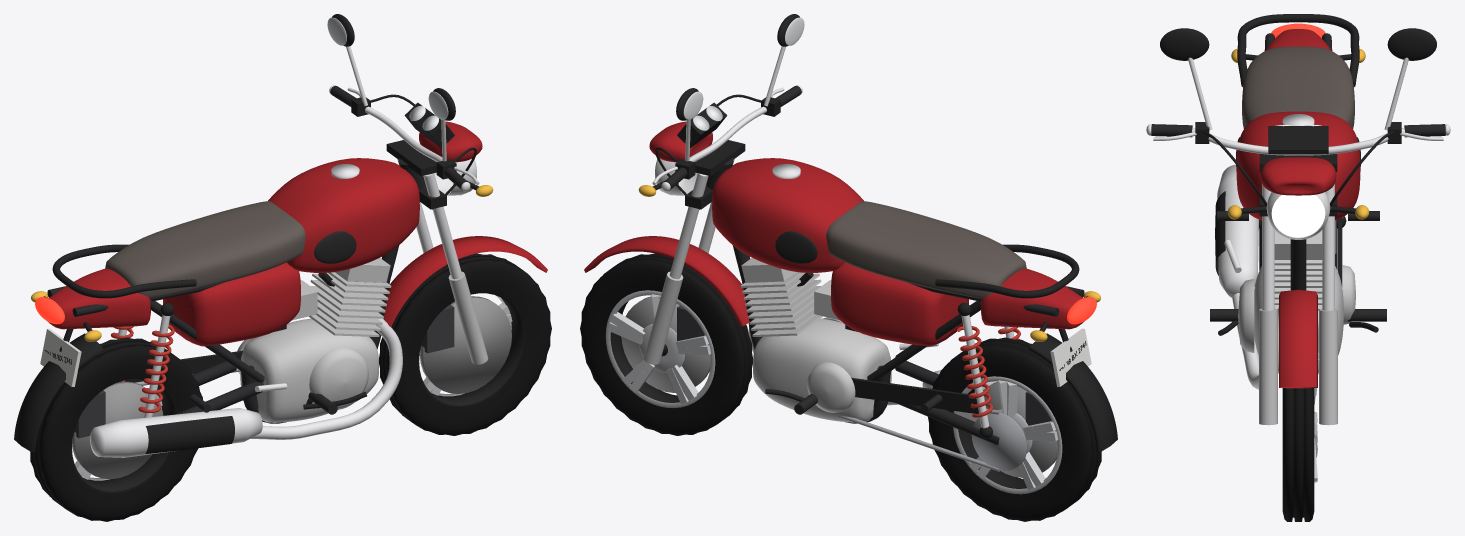
Rendered from bike_ride.glb.
3 renders of one model, left to right at view 1: azimuth 30°, elevation 25°; view 2: azimuth 150°, elevation 25°; view 3: azimuth 270°, elevation 25°, orthographic. The views are drawn at different scales.
Visible parts, largest first — view 1: Tyre, Tyre.001, Seat, Tank, SidePanel, Crankcase, BrakeDisc, Tail, Muffler, FrontGuard, BrakeDisc.001, Header (+24 smaller); view 2: Tyre, Tyre.001, Seat, Tank, Crankcase, SidePanel, Tail, FrontGuard, RearGuard, BrakeDisc, ChainGuard, Sprocket (+25 smaller); view 3: Seat, Tank, Tyre, FrontGuard, Muffler, Visor, ForkSlider, ForkSlider.001, GrabRail, Headlamp, Cluster, Mirror (+21 smaller).
Part boxes in pixels (left/top/right/bottom): Tyre: left=379, top=253, right=551, bottom=435; Tyre.001: left=30, top=337, right=202, bottom=521; Seat: left=105, top=201, right=305, bottom=298; Tank: left=268, top=158, right=419, bottom=272; SidePanel: left=163, top=262, right=300, bottom=346; Crankcase: left=240, top=318, right=378, bottom=422; BrakeDisc: left=419, top=296, right=511, bottom=393; Tail: left=47, top=268, right=150, bottom=329; Muffler: left=90, top=408, right=262, bottom=457; FrontGuard: left=383, top=236, right=547, bottom=326; BrakeDisc.001: left=72, top=381, right=163, bottom=479; Header: left=250, top=318, right=402, bottom=439; Tyre: left=580, top=253, right=752, bottom=435; Tyre.001: left=928, top=337, right=1101, bottom=521; Seat: left=826, top=201, right=1026, bottom=298; Tank: left=712, top=158, right=863, bottom=272; Crankcase: left=753, top=318, right=891, bottom=422; SidePanel: left=831, top=262, right=968, bottom=346; Tail: left=981, top=268, right=1084, bottom=329; FrontGuard: left=584, top=236, right=749, bottom=326; RearGuard: left=1028, top=333, right=1117, bottom=451; BrakeDisc: left=621, top=296, right=710, bottom=392; ChainGuard: left=851, top=377, right=978, bottom=413; Sprocket: left=971, top=412, right=1027, bottom=470; Seat: left=1242, top=46, right=1354, bottom=128; Tank: left=1236, top=111, right=1360, bottom=220; Tyre: left=1282, top=388, right=1314, bottom=521; FrontGuard: left=1279, top=289, right=1317, bottom=388; Muffler: left=1217, top=164, right=1258, bottom=297; Visor: left=1260, top=157, right=1336, bottom=195; ForkSlider: left=1319, top=308, right=1337, bottom=425; ForkSlider.001: left=1259, top=308, right=1277, bottom=425; GrabRail: left=1237, top=14, right=1359, bottom=87; Headlamp: left=1271, top=195, right=1325, bottom=237; Cluster: left=1268, top=126, right=1328, bottom=153; Mirror: left=1387, top=28, right=1436, bottom=60.
Size of the model in its own units: 1.93 by 1.39 by 0.86.
